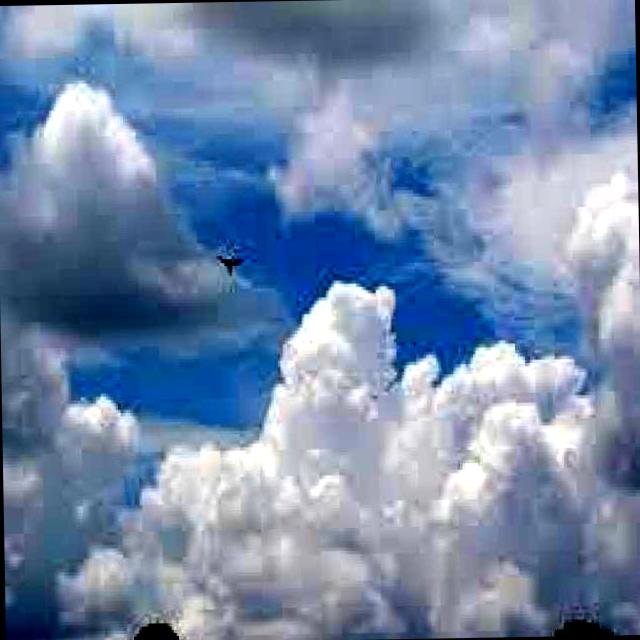bird: (217, 246, 240, 278)
